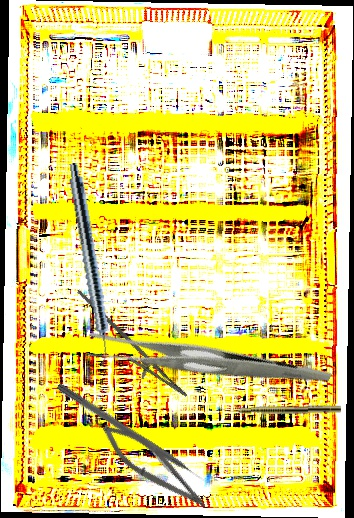Dressing Forceps: (80, 270, 333, 456)
Handpiece: (62, 161, 117, 368), (217, 403, 342, 416)
Micro Scissor: (92, 415, 218, 517)
Needle Holder: (58, 289, 200, 407)
Pusher: (54, 382, 214, 490)
